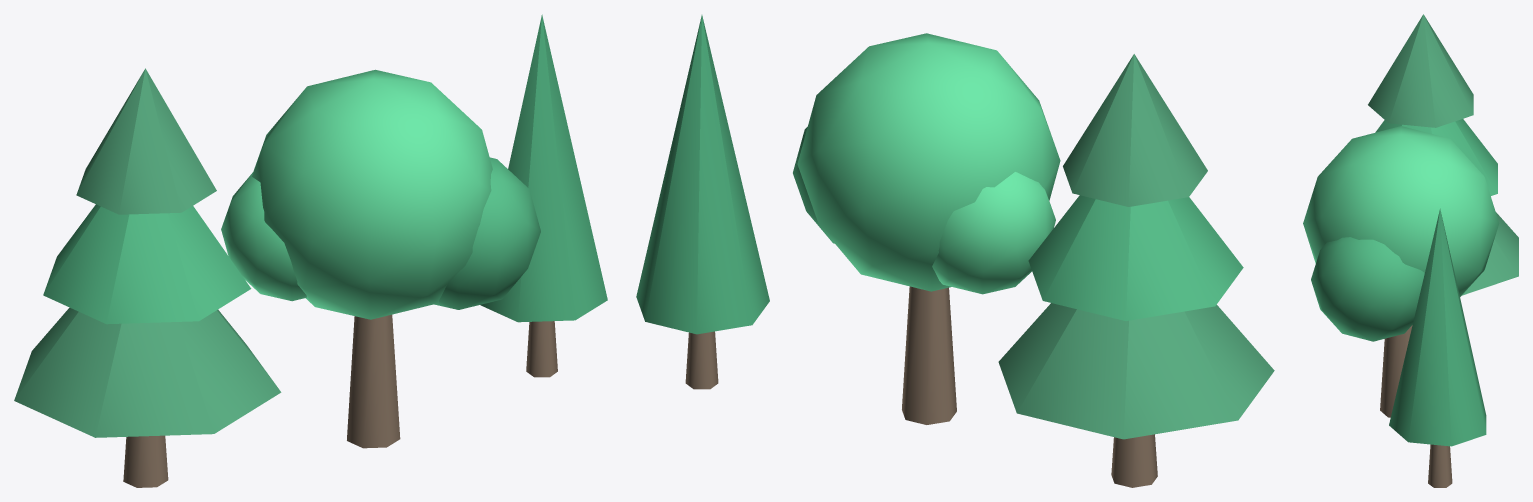
The model's file is trees_pack.glb.
3 views of the same model, side by side, from view 1: azimuth 30°, elevation 25°; view 2: azimuth 150°, elevation 25°; view 3: azimuth 270°, elevation 25° (orthographic). The views are drawn at different scales.
Parts seen in each view (by area): view 1: Leaf_Tree, Pine_Tree, Cypress_Tree; view 2: Pine_Tree, Leaf_Tree, Cypress_Tree; view 3: Leaf_Tree, Cypress_Tree, Pine_Tree.
Boxes of the visible parts, <box> form: Leaf_Tree: <box>221,69,540,448</box>; Pine_Tree: <box>14,68,281,487</box>; Cypress_Tree: <box>480,14,607,377</box>; Pine_Tree: <box>998,54,1274,487</box>; Leaf_Tree: <box>793,33,1060,424</box>; Cypress_Tree: <box>636,15,769,389</box>; Leaf_Tree: <box>1303,126,1499,417</box>; Cypress_Tree: <box>1389,208,1486,487</box>; Pine_Tree: <box>1368,14,1518,295</box>.
Size of the model in its own units: 4.62 by 3.13 by 1.94.
